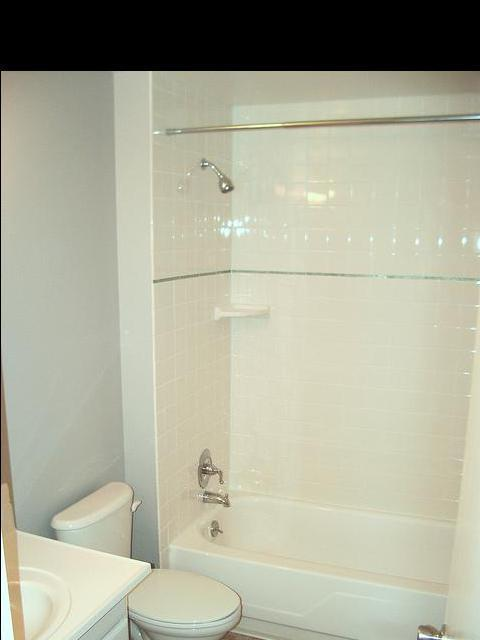Ducha: (150, 119, 264, 585)
Lavamanos: (1, 548, 92, 640)
